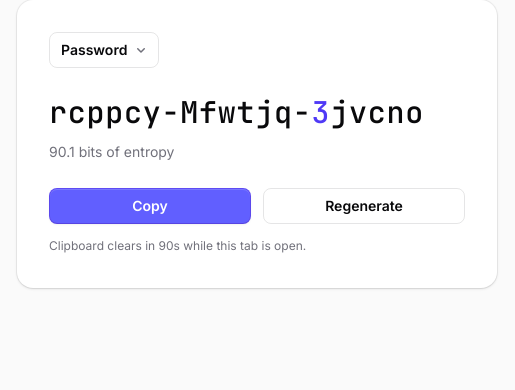
GeneratorCard › keeps every format menu item aligned by always rendering its icon slot
What coordinates should you click on to do the following:
click the button with aria-label "Format:"
I would click on:
 (104, 50)
Its box is [49,32,159,68].
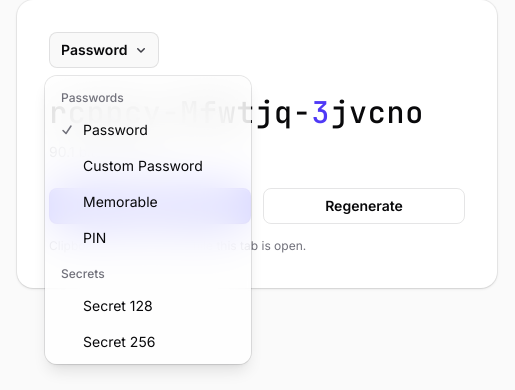
Now the icon below "Passwords" is shown, box [59,122,75,138]
